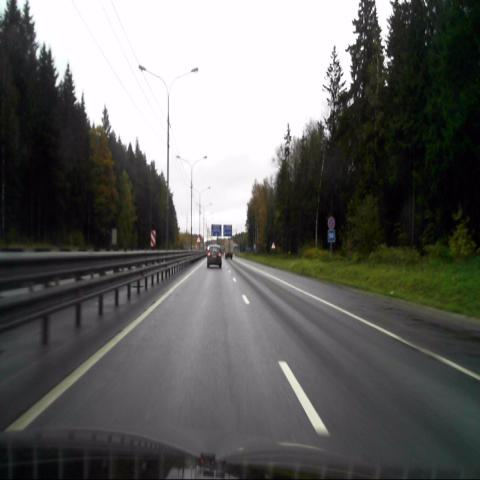3_27: (328, 216, 334, 229)
